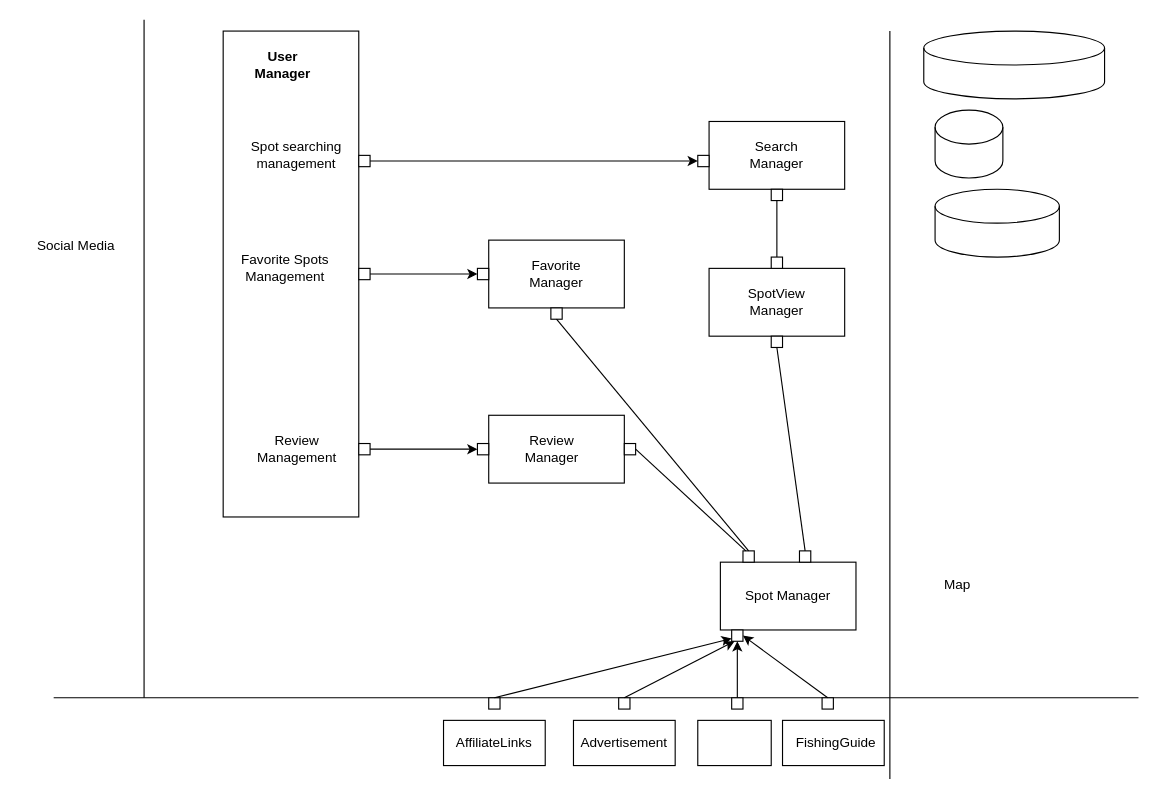
Some shapes in this 1159 by 800 pixel diagram are drawn without their labels. Here are the shapes that lost their labels. From the top down, the box of each, then its label:
(923, 30, 1105, 99): Fishing Method
(934, 109, 1003, 178): Fish
(934, 188, 1059, 257): Place
(697, 719, 771, 766): Skipperi
